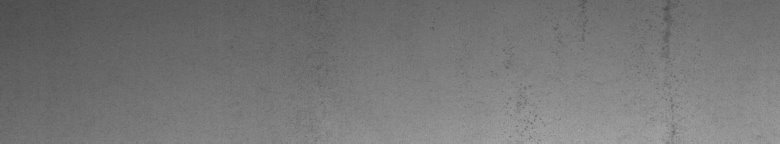ib: (508, 4, 585, 128)
